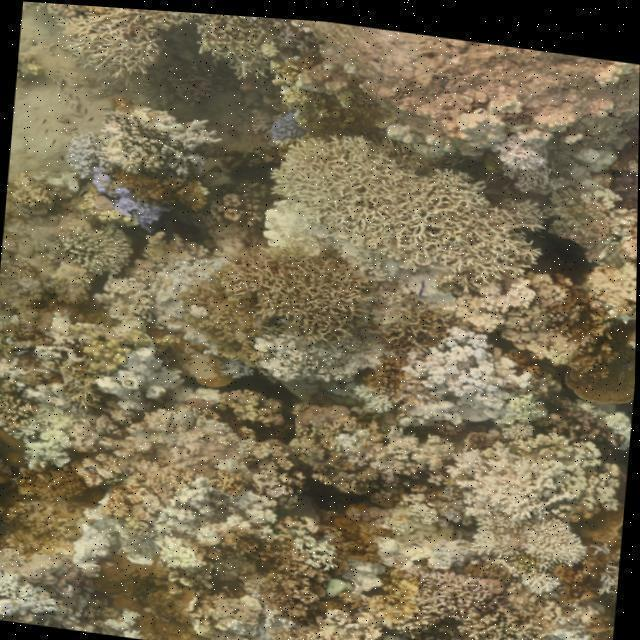Bleached Coral: (409, 320, 517, 413), (69, 162, 165, 225)
